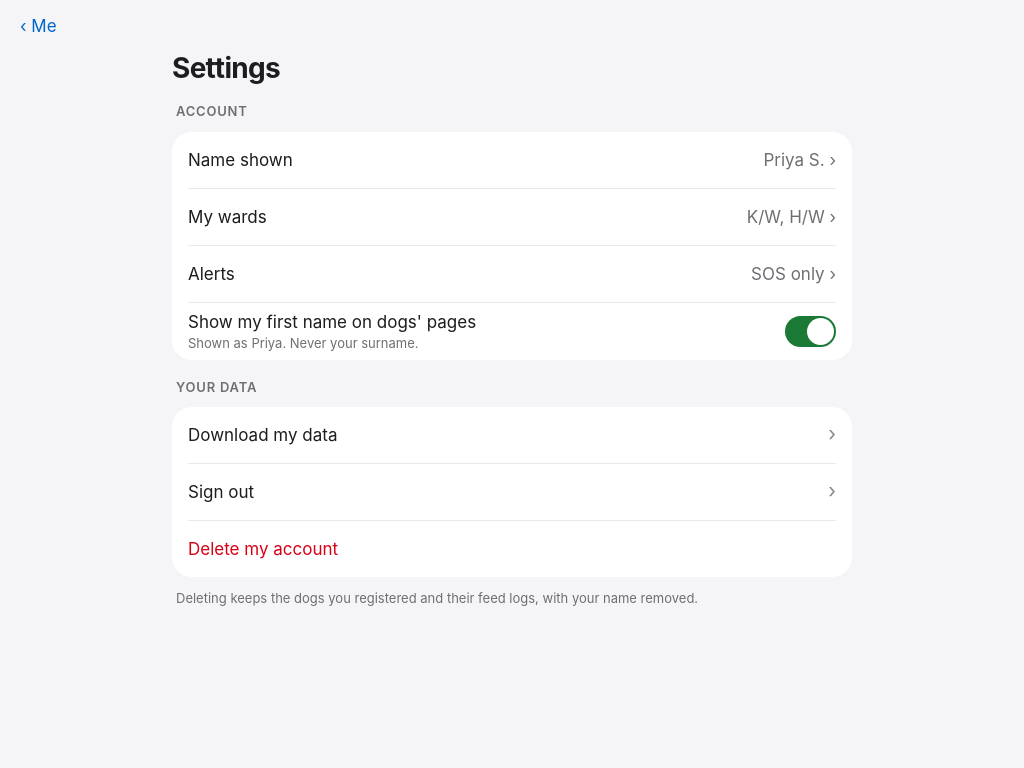
Test: SettingsPage › picks wards from all 24 and saves them on Done
Step 1. Click the button "My wards K/W, H/W ›" → {"x": 227, "y": 217}, box [188,189,836,245]
(page scrolled)
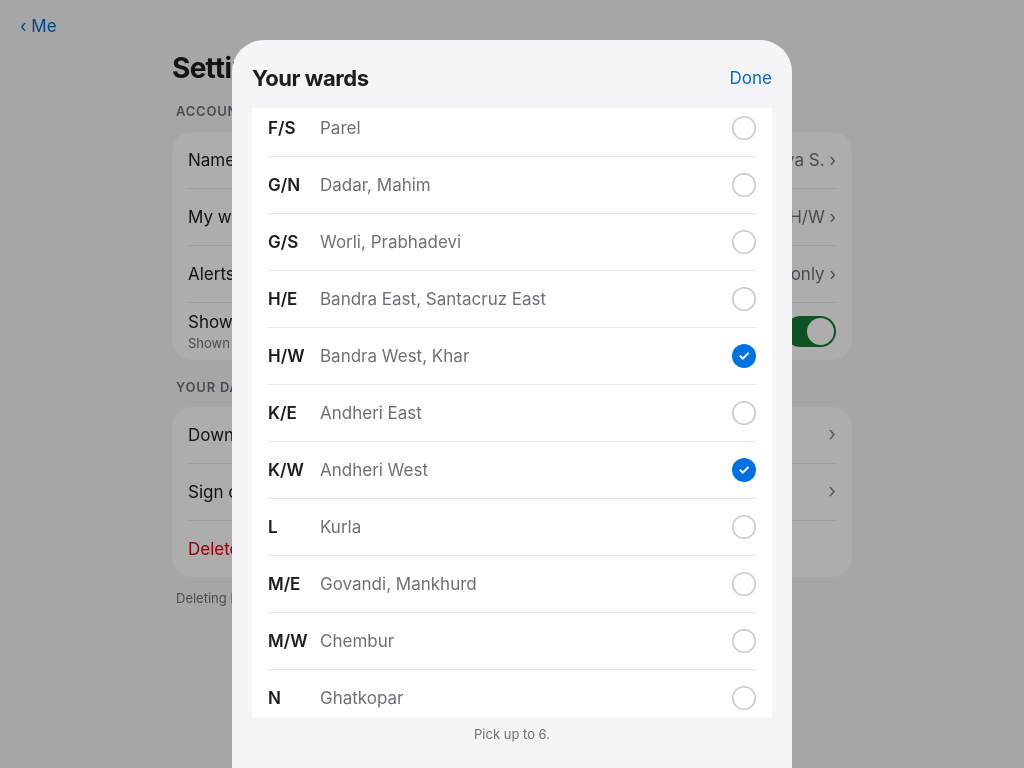
Step 2. Click the button "K/E Andheri East" → {"x": 371, "y": 412}, box [268,385,756,441]
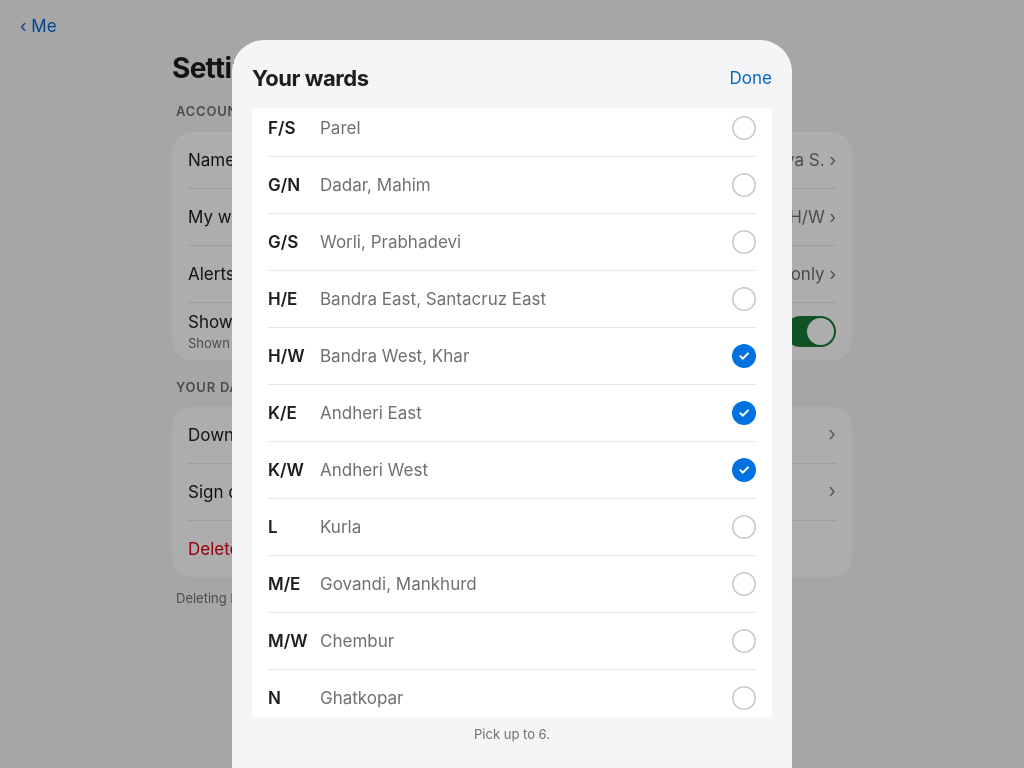
Step 3. Click the button "Done" → {"x": 751, "y": 78}, box [730,56,772,100]
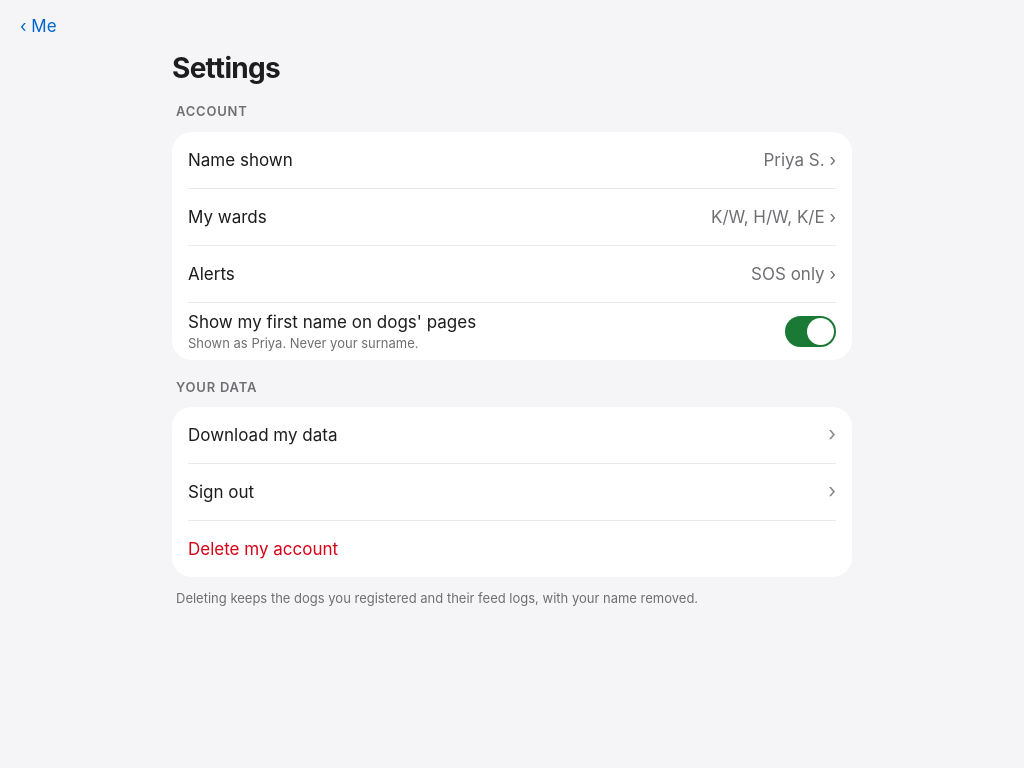
Check: the button "My wards K/W, H/W, K/E ›" is shown, box [188,189,836,245]
